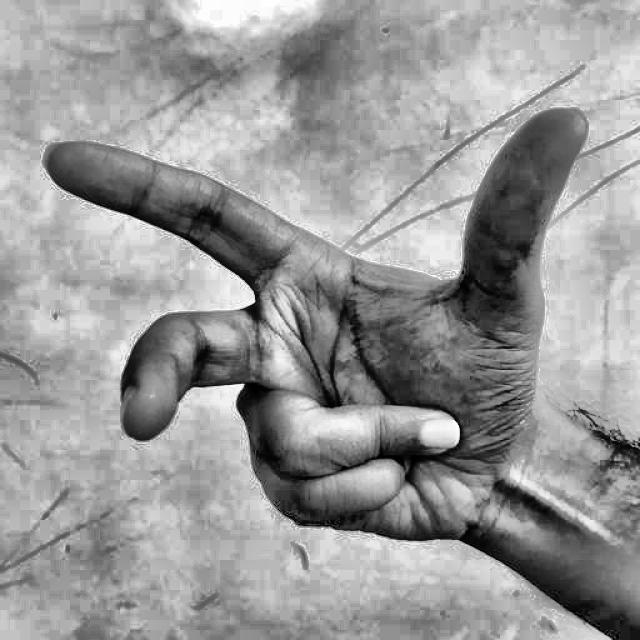Da: (26, 46, 602, 595)
